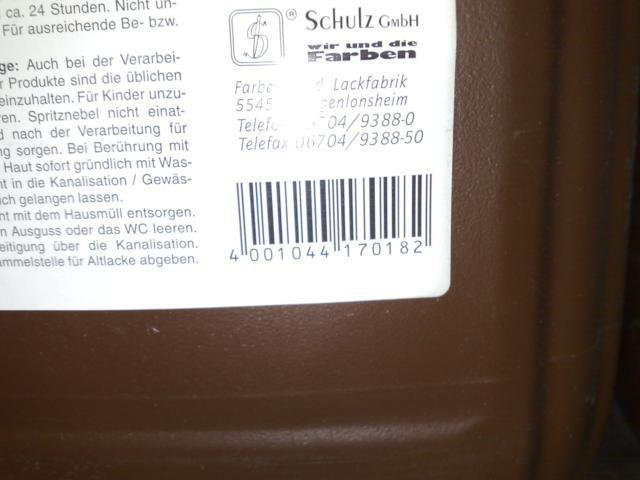Barcode: (219, 162, 444, 272)
